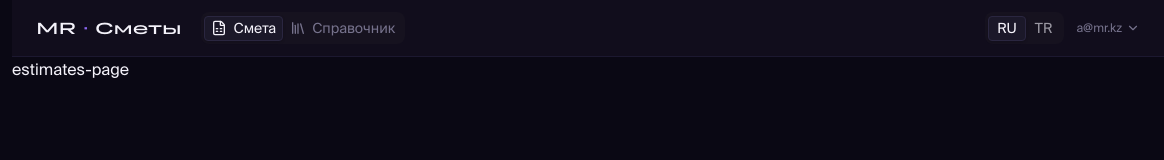
Scenario: AppShell › сегмент на нав-панели переключает интерфейс на турецкий и персистит выбор
The width and height of the screenshot is (1164, 160).
Note: Сегмент RU/TR прямо в шапке — без открытия меню аккаунта.
Click the radio button with aria-label "Türkçe": x=1044, y=28 [1026, 16, 1061, 40]
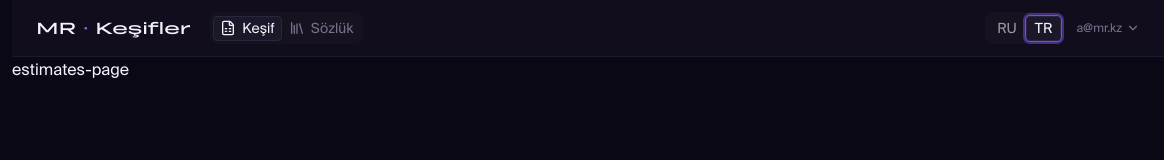
Check: the tab "Sözlük" is shown, box [282, 16, 360, 40]
